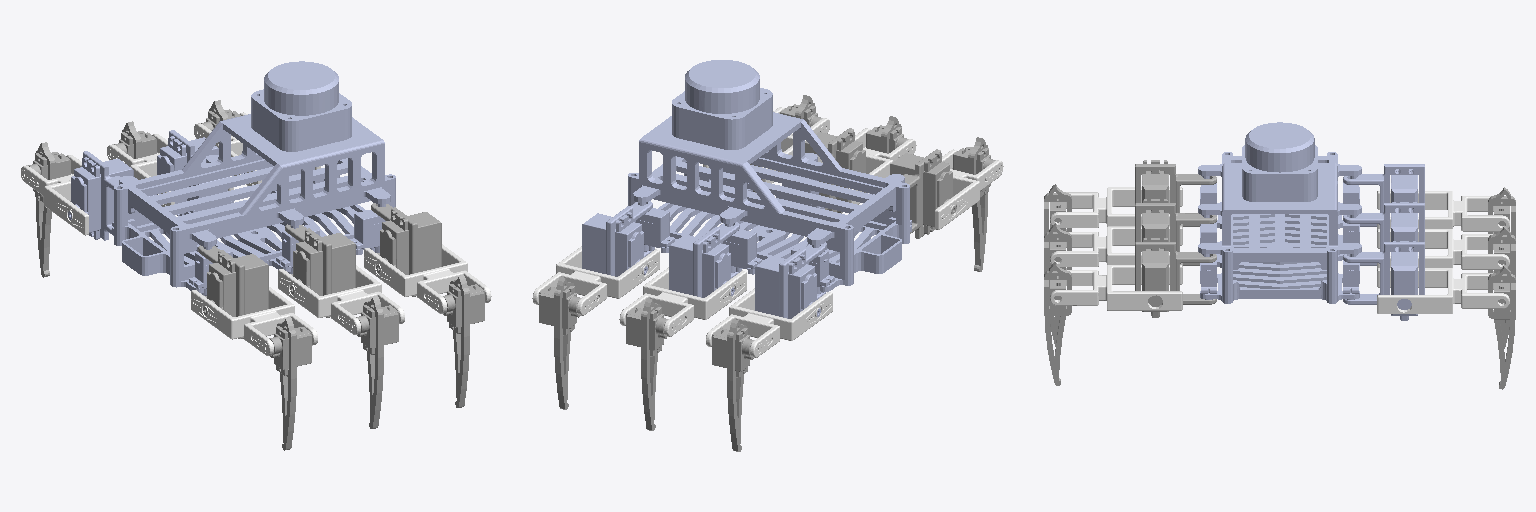
--- What the picture shows (computed from the rendered views, not written in the file) ---
3 views of the same robot in one strip: view 1: azimuth 30°, elevation 25°; view 2: azimuth 150°, elevation 25°; view 3: azimuth 270°, elevation 25° (orthographic).
Robot: Hexa — 19 links, 18 joints (18 revolute); root link base_link; default pose: every joint at zero.
Visible links, largest first — view 1: base_link, RM_C_link, RF_C_link, RR_C_link, RF_F_link, RR_F_link, RM_F_link, LR_C_link, RM_T_link, RR_T_link, RF_T_link, LR_F_link (+4 smaller); view 2: base_link, LF_C_link, LR_C_link, LM_C_link, RR_C_link, LM_F_link, LF_F_link, LR_F_link, LR_T_link, LF_T_link, LM_T_link, RR_F_link (+5 smaller); view 3: base_link, RF_F_link, LF_F_link, LF_C_link, RF_C_link, RR_F_link, LM_F_link, LR_F_link, RM_F_link, RR_C_link, RM_C_link, LM_C_link (+7 smaller).
Boxes of the visible links, left/top/right/bottom form: base_link: left=112, top=61, right=395, bottom=295; RM_C_link: left=285, top=224, right=355, bottom=317; RF_C_link: left=371, top=203, right=441, bottom=296; RR_C_link: left=198, top=245, right=268, bottom=338; RF_F_link: left=364, top=244, right=491, bottom=313; RR_F_link: left=191, top=287, right=317, bottom=355; RM_F_link: left=278, top=265, right=404, bottom=334; LR_C_link: left=68, top=151, right=133, bottom=240; RM_T_link: left=356, top=296, right=398, bottom=428; RR_T_link: left=269, top=317, right=311, bottom=450; RF_T_link: left=443, top=275, right=484, bottom=407; LR_F_link: left=21, top=155, right=88, bottom=235; base_link: left=628, top=60, right=911, bottom=293; LF_C_link: left=582, top=201, right=652, bottom=276; LR_C_link: left=755, top=244, right=825, bottom=318; LM_C_link: left=669, top=222, right=739, bottom=297; RR_C_link: left=890, top=149, right=955, bottom=238; LM_F_link: left=619, top=267, right=746, bottom=336; LF_F_link: left=532, top=246, right=659, bottom=315; LR_F_link: left=706, top=288, right=832, bottom=357; LR_T_link: left=712, top=319, right=753, bottom=451; LF_T_link: left=539, top=277, right=580, bottom=409; LM_T_link: left=626, top=298, right=667, bottom=430; RR_F_link: left=935, top=149, right=1003, bottom=229; base_link: left=1198, top=122, right=1361, bottom=303; RF_F_link: left=1050, top=265, right=1182, bottom=310; LF_F_link: left=1377, top=268, right=1509, bottom=313; LF_C_link: left=1343, top=241, right=1424, bottom=320; RF_C_link: left=1135, top=238, right=1216, bottom=317; RR_F_link: left=1050, top=187, right=1182, bottom=227; LM_F_link: left=1377, top=229, right=1509, bottom=269; LR_F_link: left=1377, top=191, right=1509, bottom=231; RM_F_link: left=1050, top=226, right=1182, bottom=266; RR_C_link: left=1135, top=160, right=1216, bottom=226; RM_C_link: left=1135, top=199, right=1216, bottom=265; LM_C_link: left=1343, top=202, right=1424, bottom=265.
Size in the robot's own frame: 0.1908 by 0.3477 by 0.1921 metres.
Meshes: 19 distinct files referenced, 19 mesh visuals loaded (19 binary STL).

URDF robot description (Hexa):
<?xml version="1.0" encoding="utf-8"?>
<!-- This URDF was automatically created by SolidWorks to URDF Exporter! Originally created by Stephen Brawner ([email redacted]) 
     Commit Version: 1.6.0-4-g7f85cfe  Build Version: 1.6.7995.38578
     For more information, please see http://wiki.ros.org/sw_urdf_exporter -->
<robot
  name="Hexa">
  <link
    name="base_link">
    <inertial>
      <origin
        xyz="0.0159191219035407 1.78598475435859E-06 0.0473897139056443"
        rpy="0 0 0" />
      <mass
        value="0.304691827318369" />
      <inertia
        ixx="0.000211534311097187"
        ixy="5.54974498618712E-07"
        ixz="-9.85936906097142E-06"
        iyy="0.0004565941411612"
        iyz="-3.00388901922387E-09"
        izz="0.000614950394684616" />
    </inertial>
    <visual>
      <origin
        xyz="0 0 0"
        rpy="0 0 0" />
      <geometry>
        <mesh
          filename="package://Hexa/meshes/base_link.STL" />
      </geometry>
      <material
        name="">
        <color
          rgba="0.792156862745098 0.819607843137255 0.933333333333333 1" />
      </material>
    </visual>
    <collision>
      <origin
        xyz="0 0 0"
        rpy="0 0 0" />
      <geometry>
        <mesh
          filename="package://Hexa/meshes/base_link.STL" />
      </geometry>
    </collision>  
  </link>  <!--
  <link name="imu_link">
    <visual>
      <geometry>
        <box size="0.01 0.01 0.01"/> </geometry>
      <material name="black">
        <color rgba="0 0 0 1"/>
      </material>
    </visual>
    <collision>
      <geometry>
        <box size="0.01 0.01 0.01"/>
      </geometry>
    </collision>
    <inertial>
      <mass value="0.001"/>
      <inertia ixx="0.000001" ixy="0" ixz="0" iyy="0.000001" iyz="0" izz="0.000001"/>
    </inertial>
  </link>
  <joint name="imu_joint" type="fixed">
    <parent link="base_link"/>
    <child link="imu_link"/>
    <origin xyz="0 0 0.02" rpy="0 0 0"/>
  </joint>  -->
  <link
    name="LF_C_link">
    <inertial>
      <origin
        xyz="0.000922355485623083 0.0371280448012749 0.01585235279848"
        rpy="0 0 0" />
      <mass
        value="0.0389935657212822" />
      <inertia
        ixx="9.18079250623328E-06"
        ixy="1.5497111962031E-07"
        ixz="-4.90890566687565E-08"
        iyy="1.06648240582475E-05"
        iyz="5.02040775538188E-08"
        izz="6.95139216559555E-06" />
    </inertial>
    <visual>
      <origin
        xyz="0 0 0"
        rpy="0 0 0" />
      <geometry>
        <mesh
          filename="package://Hexa/meshes/LF_C_link.STL" />
      </geometry>
      <material
        name="">
        <color
          rgba="0.792156862745098 0.819607843137255 0.933333333333333 1" />
      </material>
    </visual>
    <collision>
      <origin
        xyz="0 0 0"
        rpy="0 0 0" />
      <geometry>
        <mesh
          filename="package://Hexa/meshes/LF_C_link.STL" />
      </geometry>
    </collision>
  </link>
  <joint
    name="LF_Coxa"
    type="revolute">
    <origin
      xyz="0.0679 0.0525 -0.00749999999999991"
      rpy="0 0 0" />
    <parent
      link="base_link" />
    <child
      link="LF_C_link" />
    <axis
      xyz="0 0 -1" />
    <limit
      lower="-1.57"
      upper="1.57"
      effort="300"
      velocity="5" />
    <hardwareInterface>hardware_interface/PositionJointInterface</hardwareInterface> 
  </joint>
  <link
    name="LF_F_link">
    <inertial>
      <origin
        xyz="0.0304718011868279 2.29553084095694E-07 0.0246566344648548"
        rpy="0 0 0" />
      <mass
        value="0.0144341085367684" />
      <inertia
        ixx="4.43242175227063E-06"
        ixy="6.57855187418313E-10"
        ixz="1.7239435476247E-07"
        iyy="1.09695215768825E-05"
        iyz="1.76601697657809E-12"
        izz="6.99978823591704E-06" />
    </inertial>
    <visual>
      <origin
        xyz="0 0 0"
        rpy="0 0 0" />
      <geometry>
        <mesh
          filename="package://Hexa/meshes/LF_F_link.STL" />
      </geometry>
      <material
        name="">
        <color
          rgba="1 1 1 1" />
      </material>
    </visual>
    <collision>
      <origin
        xyz="0 0 0"
        rpy="0 0 0" />
      <geometry>
        <mesh
          filename="package://Hexa/meshes/LF_F_link.STL" />
      </geometry>
    </collision>
  </link>
  <joint
    name="LF_Femur"
    type="revolute">
    <origin
      xyz="-0.0241499999999999 0.039375 0.00687499999999993"
      rpy="1.5707963267949 0 1.5707963267949" />
    <parent
      link="LF_C_link" />
    <child
      link="LF_F_link" />
    <axis
      xyz="0 0 1" />
    <limit
      lower="-1.57"
      upper="1.57"
      effort="800"
      velocity="5" />
    <hardwareInterface>hardware_interface/PositionJointInterface</hardwareInterface> 
  </joint>
  <link
    name="LF_T_link">
    <inertial>
      <origin
        xyz="0.0121278189044148 -0.000749614078893068 -0.0120037195686255"
        rpy="0 0 0" />
      <mass
        value="0.0116672766726343" />
      <inertia
        ixx="7.08113101445983E-07"
        ixy="-3.76585728461708E-09"
        ixz="-4.93614244321136E-08"
        iyy="3.77316032251225E-06"
        iyz="-2.47437181370424E-08"
        izz="3.51662166240586E-06" />
    </inertial>
    <visual>
      <origin
        xyz="0 0 0"
        rpy="0 0 0" />
      <geometry>
        <mesh
          filename="package://Hexa/meshes/LF_T_link.STL" />
      </geometry>
      <material
        name="">
        <color
          rgba="0.752941176470588 0.752941176470588 0.752941176470588 1" />
      </material>
    </visual>
    <collision>
      <origin
        xyz="0 0 0"
        rpy="0 0 0" />
      <geometry>
        <mesh
          filename="package://Hexa/meshes/LF_T_link.STL" />
      </geometry>
    </collision>
  </link>
  <joint
    name="LF_tibia"
    type="revolute">
    <origin
      xyz="0.0720000000273115 0.000836227975427716 0.0127454995622929"
      rpy="-3.14159265358979 0 -1.5707963267949" />
    <parent
      link="LF_F_link" />
    <child
      link="LF_T_link" />
    <axis
      xyz="0 0 1" />
    <limit
      lower="-1.57"
      upper="1.57"
      effort="300"
      velocity="5" />
    <hardwareInterface>hardware_interface/PositionJointInterface</hardwareInterface> 
  </joint>
  <link
    name="RM_C_link">
    <inertial>
      <origin
        xyz="0.000922303101936486 -0.0371266914986939 0.0179986583892183"
        rpy="0 0 0" />
      <mass
        value="0.0389959772986439" />
      <inertia
        ixx="9.18197671581215E-06"
        ixy="-1.55018457159416E-07"
        ixz="-4.90058479517656E-08"
        iyy="1.06656684022612E-05"
        iyz="-4.96989195488469E-08"
        izz="6.95177069171079E-06" />
    </inertial>
    <visual>
      <origin
        xyz="0 0 0"
        rpy="0 0 0" />
      <geometry>
        <mesh
          filename="package://Hexa/meshes/RM_C_link.STL" />
      </geometry>
      <material
        name="">
        <color
          rgba="0.752941176470588 0.752941176470588 0.752941176470588 1" />
      </material>
    </visual>
    <collision>
      <origin
        xyz="0 0 0"
        rpy="0 0 0" />
      <geometry>
        <mesh
          filename="package://Hexa/meshes/RM_C_link.STL" />
      </geometry>
    </collision>
  </link>
  <joint
    name="RM_Coxa"
    type="revolute">
    <origin
      xyz="0.000349999999999226 -0.0524999999999994 -0.0075"
      rpy="0 0 0" />
    <parent
      link="base_link" />
    <child
      link="RM_C_link" />
    <axis
      xyz="0 0 -1" />
    <limit
      lower="-1.57"
      upper="1.57"
      effort="300"
      velocity="5" />
    <hardwareInterface>hardware_interface/PositionJointInterface</hardwareInterface> 
  </joint>
  <link
    name="RM_F_link">
    <inertial>
      <origin
        xyz="0.0304718011868279 2.29553084095044E-07 0.0246566344648548"
        rpy="0 0 0" />
      <mass
        value="0.0144341085367684" />
      <inertia
        ixx="4.43242175227064E-06"
        ixy="6.57855187415579E-10"
        ixz="1.72394354762455E-07"
        iyy="1.09695215768826E-05"
        iyz="1.76601697543953E-12"
        izz="6.99978823591704E-06" />
    </inertial>
    <visual>
      <origin
        xyz="0 0 0"
        rpy="0 0 0" />
      <geometry>
        <mesh
          filename="package://Hexa/meshes/RM_F_link.STL" />
      </geometry>
      <material
        name="">
        <color
          rgba="1 1 1 1" />
      </material>
    </visual>
    <collision>
      <origin
        xyz="0 0 0"
        rpy="0 0 0" />
      <geometry>
        <mesh
          filename="package://Hexa/meshes/RM_F_link.STL" />
      </geometry>
    </collision>
  </link>
  <joint
    name="RM_Femur"
    type="revolute">
    <origin
      xyz="-0.02415 -0.039375 0.00947500000000003"
      rpy="-1.5707963267949 0 -1.5707963267949" />
    <parent
      link="RM_C_link" />
    <child
      link="RM_F_link" />
    <axis
      xyz="0 0 1" />
    <limit
      lower="-1.57"
      upper="1.57"
      effort="800"
      velocity="5" />
    <hardwareInterface>hardware_interface/PositionJointInterface</hardwareInterface> 
  </joint>
  <link
    name="RM_T_link">
    <inertial>
      <origin
        xyz="0.000749614144558042 -0.0121278189044148 -0.0120037195686255"
        rpy="0 0 0" />
      <mass
        value="0.0116672766726343" />
      <inertia
        ixx="3.77316032251209E-06"
        ixy="-3.76585611377934E-09"
        ixz="2.47437170470743E-08"
        iyy="7.08113101444538E-07"
        iyz="4.93614244321133E-08"
        izz="3.51662166240425E-06" />
    </inertial>
    <visual>
      <origin
        xyz="0 0 0"
        rpy="0 0 0" />
      <geometry>
        <mesh
          filename="package://Hexa/meshes/RM_T_link.STL" />
      </geometry>
      <material
        name="">
        <color
          rgba="0.752941176470588 0.752941176470588 0.752941176470588 1" />
      </material>
    </visual>
    <collision>
      <origin
        xyz="0 0 0"
        rpy="0 0 0" />
      <geometry>
        <mesh
          filename="package://Hexa/meshes/RM_T_link.STL" />
      </geometry>
    </collision>
  </link>
  <joint
    name="RM_Tibia"
    type="revolute">
    <origin
      xyz="0.0719999999726885 -0.000836227975427786 0.0127454995622928"
      rpy="-3.14159265358979 0 0" />
    <parent
      link="RM_F_link" />
    <child
      link="RM_T_link" />
    <axis
      xyz="0 0 1" />
    <limit
      lower="-1.57"
      upper="1.57"
      effort="300"
      velocity="5" />
    <hardwareInterface>hardware_interface/PositionJointInterface</hardwareInterface> 
  </joint>
  <link
    name="LR_C_link">
    <inertial>
      <origin
        xyz="0.000922355485623116 0.0371280448012749 0.01585235279848"
        rpy="0 0 0" />
      <mass
        value="0.0389935657212822" />
      <inertia
        ixx="9.18079250623329E-06"
        ixy="1.54971119620305E-07"
        ixz="-4.90890566687574E-08"
        iyy="1.06648240582475E-05"
        iyz="5.02040775538379E-08"
        izz="6.95139216559556E-06" />
    </inertial>
    <visual>
      <origin
        xyz="0 0 0"
        rpy="0 0 0" />
      <geometry>
        <mesh
          filename="package://Hexa/meshes/LR_C_link.STL" />
      </geometry>
      <material
        name="">
        <color
          rgba="0.792156862745098 0.819607843137255 0.933333333333333 1" />
      </material>
    </visual>
    <collision>
      <origin
        xyz="0 0 0"
        rpy="0 0 0" />
      <geometry>
        <mesh
          filename="package://Hexa/meshes/LR_C_link.STL" />
      </geometry>
    </collision>
  </link>
  <joint
    name="LR_Coxa"
    type="revolute">
    <origin
      xyz="-0.0679 0.0525000000000002 -0.00750000000000001"
      rpy="0 0 0" />
    <parent
      link="base_link" />
    <child
      link="LR_C_link" />
    <axis
      xyz="0 0 -1" />
    <limit
      lower="-1.57"
      upper="1.57"
      effort="300"
      velocity="5" />
    <hardwareInterface>hardware_interface/PositionJointInterface</hardwareInterface> 
  </joint>
  <link
    name="LR_F_link">
    <inertial>
      <origin
        xyz="0.030471801186828 2.29553084095911E-07 0.0246566344648548"
        rpy="0 0 0" />
      <mass
        value="0.0144341085367684" />
      <inertia
        ixx="4.43242175227063E-06"
        ixy="6.57855187416924E-10"
        ixz="1.72394354762455E-07"
        iyy="1.09695215768825E-05"
        iyz="1.76601697599106E-12"
        izz="6.99978823591703E-06" />
    </inertial>
    <visual>
      <origin
        xyz="0 0 0"
        rpy="0 0 0" />
      <geometry>
        <mesh
          filename="package://Hexa/meshes/LR_F_link.STL" />
      </geometry>
      <material
        name="">
        <color
          rgba="1 1 1 1" />
      </material>
    </visual>
    <collision>
      <origin
        xyz="0 0 0"
        rpy="0 0 0" />
      <geometry>
        <mesh
          filename="package://Hexa/meshes/LR_F_link.STL" />
      </geometry>
    </collision>
  </link>
  <joint
    name="LR_Femur"
    type="revolute">
    <origin
      xyz="-0.0241499999999999 0.039375 0.00687499999999995"
      rpy="1.5707963267949 0 1.5707963267949" />
    <parent
      link="LR_C_link" />
    <child
      link="LR_F_link" />
    <axis
      xyz="0 0 1" />
    <limit
      lower="-1.57"
      upper="1.57"
      effort="800"
      velocity="5" />
    <hardwareInterface>hardware_interface/PositionJointInterface</hardwareInterface> 
  </joint>
  <link
    name="LR_T_link">
    <inertial>
      <origin
        xyz="0.0121278189044148 -0.000749614078893152 -0.0120037195686255"
        rpy="0 0 0" />
      <mass
        value="0.0116672766726343" />
      <inertia
        ixx="7.08113101445367E-07"
        ixy="-3.76585728456564E-09"
        ixz="-4.93614244321143E-08"
        iyy="3.77316032251212E-06"
        iyz="-2.47437181370408E-08"
        izz="3.51662166240511E-06" />
    </inertial>
    <visual>
      <origin
        xyz="0 0 0"
        rpy="0 0 0" />
      <geometry>
        <mesh
          filename="package://Hexa/meshes/LR_T_link.STL" />
      </geometry>
      <material
        name="">
        <color
          rgba="0.752941176470588 0.752941176470588 0.752941176470588 1" />
      </material>
    </visual>
    <collision>
      <origin
        xyz="0 0 0"
        rpy="0 0 0" />
      <geometry>
        <mesh
          filename="package://Hexa/meshes/LR_T_link.STL" />
      </geometry>
    </collision>
  </link>
  <joint
    name="LR_Tibia"
    type="revolute">
    <origin
      xyz="0.0720000000273115 0.000836227975427765 0.0127454995622928"
      rpy="3.14159265358979 0 -1.5707963267949" />
    <parent
      link="LR_F_link" />
    <child
      link="LR_T_link" />
    <axis
      xyz="0 0 1" />
    <limit
      lower="-1.57"
      upper="1.57"
      effort="300"
      velocity="5" />
    <hardwareInterface>hardware_interface/PositionJointInterface</hardwareInterface> 
  </joint>
  <link
    name="RF_C_link">
    <inertial>
      <origin
        xyz="0.000922303101936445 -0.0371266914986939 0.0179986583892183"
        rpy="0 0 0" />
      <mass
        value="0.0389959772986439" />
      <inertia
        ixx="9.18197671581216E-06"
        ixy="-1.55018457159418E-07"
        ixz="-4.90058479517609E-08"
        iyy="1.06656684022612E-05"
        iyz="-4.9698919548839E-08"
        izz="6.95177069171079E-06" />
    </inertial>
    <visual>
      <origin
        xyz="0 0 0"
        rpy="0 0 0" />
      <geometry>
        <mesh
          filename="package://Hexa/meshes/RF_C_link.STL" />
      </geometry>
      <material
        name="">
        <color
          rgba="0.752941176470588 0.752941176470588 0.752941176470588 1" />
      </material>
    </visual>
    <collision>
      <origin
        xyz="0 0 0"
        rpy="0 0 0" />
      <geometry>
        <mesh
          filename="package://Hexa/meshes/RF_C_link.STL" />
      </geometry>
    </collision>
  </link>
  <joint
    name="RF_Coxa"
    type="revolute">
    <origin
      xyz="0.0678999999999983 -0.0525000000000002 -0.00749999999999999"
      rpy="0 0 0" />
    <parent
      link="base_link" />
    <child
      link="RF_C_link" />
    <axis
      xyz="0 0 -1" />
    <limit
      lower="-1.57"
      upper="1.57"
      effort="300"
      velocity="5" />
    <hardwareInterface>hardware_interface/PositionJointInterface</hardwareInterface> 
  </joint>
  <link
    name="RF_F_link">
    <inertial>
      <origin
        xyz="-0.030471801186828 -2.29553084097646E-07 0.0246566344648547"
        rpy="0 0 0" />
      <mass
        value="0.0144341085367684" />
      <inertia
        ixx="4.43242175227064E-06"
        ixy="6.57855187416243E-10"
        ixz="-1.72394354762456E-07"
        iyy="1.09695215768825E-05"
        iyz="-1.76601697539714E-12"
        izz="6.99978823591703E-06" />
    </inertial>
    <visual>
      <origin
        xyz="0 0 0"
        rpy="0 0 0" />
      <geometry>
        <mesh
          filename="package://Hexa/meshes/RF_F_link.STL" />
      </geometry>
      <material
        name="">
        <color
          rgba="1 1 1 1" />
      </material>
    </visual>
    <collision>
      <origin
        xyz="0 0 0"
        rpy="0 0 0" />
      <geometry>
        <mesh
          filename="package://Hexa/meshes/RF_F_link.STL" />
      </geometry>
    </collision>
  </link>
  <joint
    name="RF_Femur"
    type="revolute">
    <origin
      xyz="-0.02415 -0.039375 0.00947499999999999"
      rpy="1.5707963267949 0 1.5707963267949" />
    <parent
      link="RF_C_link" />
    <child
      link="RF_F_link" />
    <axis
      xyz="0 0 1" />
    <limit
      lower="-1.57"
      upper="1.57"
      effort="800"
      velocity="5" />
    <hardwareInterface>hardware_interface/PositionJointInterface</hardwareInterface> 
  </joint>
  <link
    name="RF_T_link">
    <inertial>
      <origin
        xyz="0.0121278189044144 0.000749614144558333 -0.0120037195686255"
        rpy="0 0 0" />
      <mass
        value="0.0116672766726343" />
      <inertia
        ixx="7.08113101443925E-07"
        ixy="3.76585611240166E-09"
        ixz="-4.93614244321091E-08"
        iyy="3.77316032251104E-06"
        iyz="2.47437170470671E-08"
        izz="3.51662166240259E-06" />
    </inertial>
    <visual>
      <origin
        xyz="0 0 0"
        rpy="0 0 0" />
      <geometry>
        <mesh
          filename="package://Hexa/meshes/RF_T_link.STL" />
      </geometry>
      <material
        name="">
        <color
          rgba="0.752941176470588 0.752941176470588 0.752941176470588 1" />
      </material>
    </visual>
    <collision>
      <origin
        xyz="0 0 0"
        rpy="0 0 0" />
      <geometry>
        <mesh
          filename="package://Hexa/meshes/RF_T_link.STL" />
      </geometry>
    </collision>
  </link>
  <joint
    name="RF_Tibia"
    type="revolute">
    <origin
      xyz="-0.0719999999726885 0.000836227975427791 0.0127454995622928"
      rpy="3.14159265358979 0 -1.5707963267949" />
    <parent
      link="RF_F_link" />
    <child
      link="RF_T_link" />
    <axis
      xyz="0 0 1" />
    <limit
      lower="-1.57"
      upper="1.57"
      effort="300"
      velocity="5" />
    <hardwareInterface>hardware_interface/PositionJointInterface</hardwareInterface> 
  </joint>
  <link
    name="LM_C_link">
    <inertial>
      <origin
        xyz="0.000922355485623083 0.0371280448012749 0.0158523527984801"
        rpy="0 0 0" />
      <mass
        value="0.0389935657212823" />
      <inertia
        ixx="9.18079250623333E-06"
        ixy="1.54971119620304E-07"
        ixz="-4.90890566687644E-08"
        iyy="1.06648240582475E-05"
        iyz="5.02040775538284E-08"
        izz="6.95139216559558E-06" />
    </inertial>
    <visual>
      <origin
        xyz="0 0 0"
        rpy="0 0 0" />
      <geometry>
        <mesh
          filename="package://Hexa/meshes/LM_C_link.STL" />
      </geometry>
      <material
        name="">
        <color
          rgba="0.792156862745098 0.819607843137255 0.933333333333333 1" />
      </material>
    </visual>
    <collision>
      <origin
        xyz="0 0 0"
        rpy="0 0 0" />
      <geometry>
        <mesh
          filename="package://Hexa/meshes/LM_C_link.STL" />
      </geometry>
    </collision>
  </link>
  <joint
    name="LM_Coxa"
    type="revolute">
    <origin
      xyz="-0.000349999999999934 0.0525 -0.0075"
      rpy="0 0 0" />
    <parent
      link="base_link" />
    <child
      link="LM_C_link" />
    <axis
      xyz="0 0 -1" />
    <limit
      lower="-1.57"
      upper="1.57"
      effort="300"
      velocity="5" />
    <hardwareInterface>hardware_interface/PositionJointInterface</hardwareInterface> 
  </joint>
  <link
    name="LM_F_link">
    <inertial>
      <origin
        xyz="0.0304718011868279 2.29553084090273E-07 0.0246566344648548"
        rpy="0 0 0" />
      <mass
        value="0.0144341085367684" />
      <inertia
        ixx="4.43242175227065E-06"
        ixy="6.57855187415831E-10"
        ixz="1.72394354762449E-07"
        iyy="1.09695215768826E-05"
        iyz="1.76601697602125E-12"
        izz="6.99978823591705E-06" />
    </inertial>
    <visual>
      <origin
        xyz="0 0 0"
        rpy="0 0 0" />
      <geometry>
        <mesh
          filename="package://Hexa/meshes/LM_F_link.STL" />
      </geometry>
      <material
        name="">
        <color
          rgba="1 1 1 1" />
      </material>
    </visual>
    <collision>
      <origin
        xyz="0 0 0"
        rpy="0 0 0" />
      <geometry>
        <mesh
          filename="package://Hexa/meshes/LM_F_link.STL" />
      </geometry>
    </collision>
  </link>
  <joint
    name="LM_Femur"
    type="revolute">
    <origin
      xyz="-0.02415 0.039375 0.00687499999999997"
      rpy="1.5707963267949 0 1.5707963267949" />
    <parent
      link="LM_C_link" />
    <child
      link="LM_F_link" />
    <axis
      xyz="0 0 1" />
    <limit
      lower="-1.57"
      upper="1.57"
      effort="800"
      velocity="5" />
    <hardwareInterface>hardware_interface/PositionJointInterface</hardwareInterface> 
  </joint>
  <link
    name="LM_T_link">
    <inertial>
      <origin
        xyz="0.0121278188968431 -0.000749614077957622 -0.0120037195649671"
        rpy="0 0 0" />
      <mass
        value="0.0116672766778527" />
      <inertia
        ixx="7.08113101725595E-07"
        ixy="-3.76585727629777E-09"
        ixz="-4.9361423911707E-08"
        iyy="3.77316032354588E-06"
        iyz="-2.47437181903914E-08"
        izz="3.5166216628473E-06" />
    </inertial>
    <visual>
      <origin
        xyz="0 0 0"
        rpy="0 0 0" />
      <geometry>
        <mesh
          filename="package://Hexa/meshes/LM_T_link.STL" />
      </geometry>
      <material
        name="">
        <color
          rgba="0.752941176470588 0.752941176470588 0.752941176470588 1" />
      </material>
    </visual>
    <collision>
      <origin
        xyz="0 0 0"
        rpy="0 0 0" />
      <geometry>
        <mesh
          filename="package://Hexa/meshes/LM_T_link.STL" />
      </geometry>
    </collision>
  </link>
  <joint
    name="LM_Tibia"
    type="revolute">
    <origin
      xyz="0.0720000000273115 0.000836227975427786 0.0127454995622928"
      rpy="3.14159265358979 0 -1.5707963267949" />
    <parent
      link="LM_F_link" />
    <child
      link="LM_T_link" />
    <axis
      xyz="0 0 1" />
    <limit
      lower="-1.57"
      upper="1.57"
      effort="300"
      velocity="5" />
    <hardwareInterface>hardware_interface/PositionJointInterface</hardwareInterface> 
  </joint>
  <link
    name="RR_C_link">
    <inertial>
      <origin
        xyz="0.000922303101936485 -0.0371266914986939 0.0179986583892183"
        rpy="0 0 0" />
      <mass
        value="0.0389959772986439" />
      <inertia
        ixx="9.18197671581214E-06"
        ixy="-1.55018457159413E-07"
        ixz="-4.90058479517626E-08"
        iyy="1.06656684022612E-05"
        iyz="-4.96989195488442E-08"
        izz="6.95177069171078E-06" />
    </inertial>
    <visual>
      <origin
        xyz="0 0 0"
        rpy="0 0 0" />
      <geometry>
        <mesh
          filename="package://Hexa/meshes/RR_C_link.STL" />
      </geometry>
      <material
        name="">
        <color
          rgba="0.752941176470588 0.752941176470588 0.752941176470588 1" />
      </material>
    </visual>
    <collision>
      <origin
        xyz="0 0 0"
        rpy="0 0 0" />
      <geometry>
        <mesh
          filename="package://Hexa/meshes/RR_C_link.STL" />
      </geometry>
    </collision>
  </link>
  <joint
    name="RR_Coxa"
    type="revolute">
    <origin
      xyz="-0.0679000000000005 -0.0524999999999994 -0.00749999999999998"
      rpy="0 0 0" />
    <parent
      link="base_link" />
    <child
      link="RR_C_link" />
    <axis
      xyz="0 0 -1" />
    <limit
      lower="-1.57"
      upper="1.57"
      effort="300"
      velocity="5" />
    <hardwareInterface>hardware_interface/PositionJointInterface</hardwareInterface> 
  </joint>
  <link
    name="RR_F_link">
    <inertial>
      <origin
        xyz="0.0304718011868279 2.29553084093309E-07 0.0246566344648548"
        rpy="0 0 0" />
      <mass
        value="0.0144341085367684" />
      <inertia
        ixx="4.43242175227063E-06"
        ixy="6.57855187416262E-10"
        ixz="1.72394354762454E-07"
        iyy="1.09695215768825E-05"
        iyz="1.76601697547272E-12"
        izz="6.99978823591704E-06" />
    </inertial>
    <visual>
      <origin
        xyz="0 0 0"
        rpy="0 0 0" />
      <geometry>
        <mesh
          filename="package://Hexa/meshes/RR_F_link.STL" />
      </geometry>
      <material
        name="">
        <color
          rgba="1 1 1 1" />
      </material>
    </visual>
    <collision>
      <origin
        xyz="0 0 0"
        rpy="0 0 0" />
      <geometry>
        <mesh
          filename="package://Hexa/meshes/RR_F_link.STL" />
      </geometry>
    </collision>
  </link>
  <joint
    name="RR_Femur"
    type="revolute">
    <origin
      xyz="-0.02415 -0.039375 0.00947500000000002"
      rpy="-1.5707963267949 0 -1.5707963267949" />
    <parent
      link="RR_C_link" />
    <child
      link="RR_F_link" />
    <axis
      xyz="0 0 1" />
    <limit
      lower="-1.57"
      upper="1.57"
      effort="800"
      velocity="5" />
    <hardwareInterface>hardware_interface/PositionJointInterface</hardwareInterface> 
  </joint>
  <link
    name="RR_T_link">
    <inertial>
      <origin
        xyz="0.0121278189044148 0.000749614144558056 -0.0120037195686255"
        rpy="0 0 0" />
      <mass
        value="0.0116672766726343" />
      <inertia
        ixx="7.08113101444542E-07"
        ixy="3.76585611377526E-09"
        ixz="-4.93614244321141E-08"
        iyy="3.77316032251209E-06"
        iyz="2.47437170470746E-08"
        izz="3.51662166240426E-06" />
    </inertial>
    <visual>
      <origin
        xyz="0 0 0"
        rpy="0 0 0" />
      <geometry>
        <mesh
          filename="package://Hexa/meshes/RR_T_link.STL" />
      </geometry>
      <material
        name="">
        <color
          rgba="0.752941176470588 0.752941176470588 0.752941176470588 1" />
      </material>
    </visual>
    <collision>
      <origin
        xyz="0 0 0"
        rpy="0 0 0" />
      <geometry>
        <mesh
          filename="package://Hexa/meshes/RR_T_link.STL" />
      </geometry>
    </collision>
  </link>
  <joint
    name="RR_Tibia"
    type="revolute">
    <origin
      xyz="0.0719999999726885 -0.000836227975427774 0.0127454995622928"
      rpy="-3.14159265358979 0 1.5707963267949" />
    <parent
      link="RR_F_link" />
    <child
      link="RR_T_link" />
    <axis
      xyz="0 0 1" />
    <limit
      lower="-1.57"
      upper="1.57"
      effort="300"
      velocity="5" />
    <hardwareInterface>hardware_interface/PositionJointInterface</hardwareInterface> 
  </joint>
  
  <transmission name="LF_Coxa_transmission">
    <type>hardware_interface/SimpleTransmission</type>
    <joint name="LF_Coxa">
      <hardwareInterface>hardware_interface/PositionJointInterface</hardwareInterface> 
    </joint>
    <actuator name="LF_Coxa_motor">
      <hardwareInterface>hardware_interface/PositionJointInterface</hardwareInterface> 
      <mechanicalReduction>1</mechanicalReduction>
    </actuator>
  </transmission>

  <transmission name="LF_Femur_transmission">
    <type>hardware_interface/SimpleTransmission</type>
    <joint name="LF_Femur">
      <hardwareInterface>hardware_interface/PositionJointInterface</hardwareInterface>
    </joint>
    <actuator name="LF_Femur_motor">
      <hardwareInterface>hardware_interface/PositionJointInterface</hardwareInterface>
      <mechanicalReduction>1</mechanicalReduction>
    </actuator>
  </transmission>

  <transmission name="LF_tibia_transmission">
    <type>hardware_interface/SimpleTransmission</type>
    <joint name="LF_tibia">
      <hardwareInterface>hardware_interface/PositionJointInterface</hardwareInterface>
    </joint>
    <actuator name="LF_tibia_motor">
      <hardwareInterface>hardware_interface/PositionJointInterface</hardwareInterface>
      <mechanicalReduction>1</mechanicalReduction>
    </actuator>
  </transmission>

  <transmission name="RM_Coxa_transmission">
    <type>hardware_interface/SimpleTransmission</type>
    <joint name="RM_Coxa">
      <hardwareInterface>hardware_interface/PositionJointInterface</hardwareInterface>
    </joint>
    <actuator name="RM_Coxa_motor">
      <hardwareInterface>hardware_interface/PositionJointInterface</hardwareInterface>
      <mechanicalReduction>1</mechanicalReduction>
    </actuator>
  </transmission>

  <transmission name="RM_Femur_transmission">
    <type>hardware_interface/SimpleTransmission</type>
    <joint name="RM_Femur">
      <hardwareInterface>hardware_interface/PositionJointInterface</hardwareInterface>
    </joint>
    <actuator name="RM_Femur_motor">
      <hardwareInterface>hardware_interface/PositionJointInterface</hardwareInterface>
      <mechanicalReduction>1</mechanicalReduction>
    </actuator>
  </transmission>

  <transmission name="RM_Tibia_transmission">
    <type>hardware_interface/SimpleTransmission</type>
    <joint name="RM_Tibia">
      <hardwareInterface>hardware_interface/PositionJointInterface</hardwareInterface>
    </joint>
    <actuator name="RM_Tibia_motor">
      <hardwareInterface>hardware_interface/PositionJointInterface</hardwareInterface>
      <mechanicalReduction>1</mechanicalReduction>
    </actuator>
  </transmission>

  <transmission name="LR_Coxa_transmission">
    <type>hardware_interface/SimpleTransmission</type>
    <joint name="LR_Coxa">
      <hardwareInterface>hardware_interface/PositionJointInterface</hardwareInterface>
    </joint>
    <actuator name="LR_Coxa_motor">
      <hardwareInterface>hardware_interface/PositionJointInterface</hardwareInterface>
      <mechanicalReduction>1</mechanicalReduction>
    </actuator>
  </transmission>

  <transmission name="LR_Femur_transmission">
    <type>hardware_interface/SimpleTransmission</type>
    <joint name="LR_Femur">
      <hardwareInterface>hardware_interface/PositionJointInterface</hardwareInterface>
    </joint>
    <actuator name="LR_Femur_motor">
      <hardwareInterface>hardware_interface/PositionJointInterface</hardwareInterface>
      <mechanicalReduction>1</mechanicalReduction>
    </actuator>
  </transmission>

  <transmission name="LR_Tibia_transmission">
    <type>hardware_interface/SimpleTransmission</type>
    <joint name="LR_Tibia">
      <hardwareInterface>hardware_interface/PositionJointInterface</hardwareInterface>
    </joint>
    <actuator name="LR_Tibia_motor">
      <hardwareInterface>hardware_interface/PositionJointInterface</hardwareInterface>
      <mechanicalReduction>1</mechanicalReduction>
    </actuator>
  </transmission>

  <transmission name="RF_Coxa_transmission">
    <type>hardware_interface/SimpleTransmission</type>
    <joint name="RF_Coxa">
      <hardwareInterface>hardware_interface/PositionJointInterface</hardwareInterface>
    </joint>
    <actuator name="RF_Coxa_motor">
      <hardwareInterface>hardware_interface/PositionJointInterface</hardwareInterface>
      <mechanicalReduction>1</mechanicalReduction>
    </actuator>
  </transmission>

  <transmission name="RF_Femur_transmission">
    <type>hardware_interface/SimpleTransmission</type>
    <joint name="RF_Femur">
      <hardwareInterface>hardware_interface/PositionJointInterface</hardwareInterface>
    </joint>
    <actuator name="RF_Femur_motor">
      <hardwareInterface>hardware_interface/PositionJointInterface</hardwareInterface>
      <mechanicalReduction>1</mechanicalReduction>
    </actuator>
  </transmission>

  <transmission name="RF_Tibia_transmission">
    <type>hardware_interface/SimpleTransmission</type>
    <joint name="RF_Tibia">
      <hardwareInterface>hardware_interface/PositionJointInterface</hardwareInterface>
    </joint>
    <actuator name="RF_Tibia_motor">
      <hardwareInterface>hardware_interface/PositionJointInterface</hardwareInterface>
      <mechanicalReduction>1</mechanicalReduction>
    </actuator>
  </transmission>

  <transmission name="LM_Coxa_transmission">
    <type>hardware_interface/SimpleTransmission</type>
    <joint name="LM_Coxa">
      <hardwareInterface>hardware_interface/PositionJointInterface</hardwareInterface>
    </joint>
    <actuator name="LM_Coxa_motor">
      <hardwareInterface>hardware_interface/PositionJointInterface</hardwareInterface>
      <mechanicalReduction>1</mechanicalReduction>
    </actuator>
  </transmission>

  <transmission name="LM_Femur_transmission">
    <type>hardware_interface/SimpleTransmission</type>
    <joint name="LM_Femur">
      <hardwareInterface>hardware_interface/PositionJointInterface</hardwareInterface>
    </joint>
    <actuator name="LM_Femur_motor">
      <hardwareInterface>hardware_interface/PositionJointInterface</hardwareInterface>
      <mechanicalReduction>1</mechanicalReduction>
     </actuator>
  </transmission>

  <transmission name="LM_Tibia_transmission">
    <type>hardware_interface/SimpleTransmission</type>
    <joint name="LM_Tibia">
      <hardwareInterface>hardware_interface/PositionJointInterface</hardwareInterface>
    </joint>
    <actuator name="LM_Tibia_motor">
      <hardwareInterface>hardware_interface/PositionJointInterface</hardwareInterface>
      <mechanicalReduction>1</mechanicalReduction>
    </actuator>
  </transmission>

  <transmission name="RR_Coxa_transmission">
    <type>hardware_interface/SimpleTransmission</type>
    <joint name="RR_Coxa">
      <hardwareInterface>hardware_interface/PositionJointInterface</hardwareInterface>
    </joint>
    <actuator name="RR_Coxa_motor">
      <hardwareInterface>hardware_interface/PositionJointInterface</hardwareInterface>
      <mechanicalReduction>1</mechanicalReduction>
    </actuator>
  </transmission>

  <transmission name="RR_Femur_transmission">
    <type>hardware_interface/SimpleTransmission</type>
    <joint name="RR_Femur">
      <hardwareInterface>hardware_interface/PositionJointInterface</hardwareInterface>
    </joint>
    <actuator name="RR_Femur_motor">
      <hardwareInterface>hardware_interface/PositionJointInterface</hardwareInterface>
      <mechanicalReduction>1</mechanicalReduction>
    </actuator>
  </transmission>

  <transmission name="RR_Tibia_transmission">
    <type>hardware_interface/SimpleTransmission</type>
    <joint name="RR_Tibia">
      <hardwareInterface>hardware_interface/PositionJointInterface</hardwareInterface>
    </joint>
    <actuator name="RR_Tibia_motor">
      <hardwareInterface>hardware_interface/PositionJointInterface</hardwareInterface>
      <mechanicalReduction>1</mechanicalReduction>
    </actuator>
  </transmission>
  <gazebo>
    <plugin name="gazebo_ros_control" filename="libgazebo_ros_control.so">
      <robotNamespace>/</robotNamespace>
      <robotSimType>gazebo_ros_control/DefaultRobotHWSim</robotSimType>
      </plugin>
  </gazebo>

</robot>
